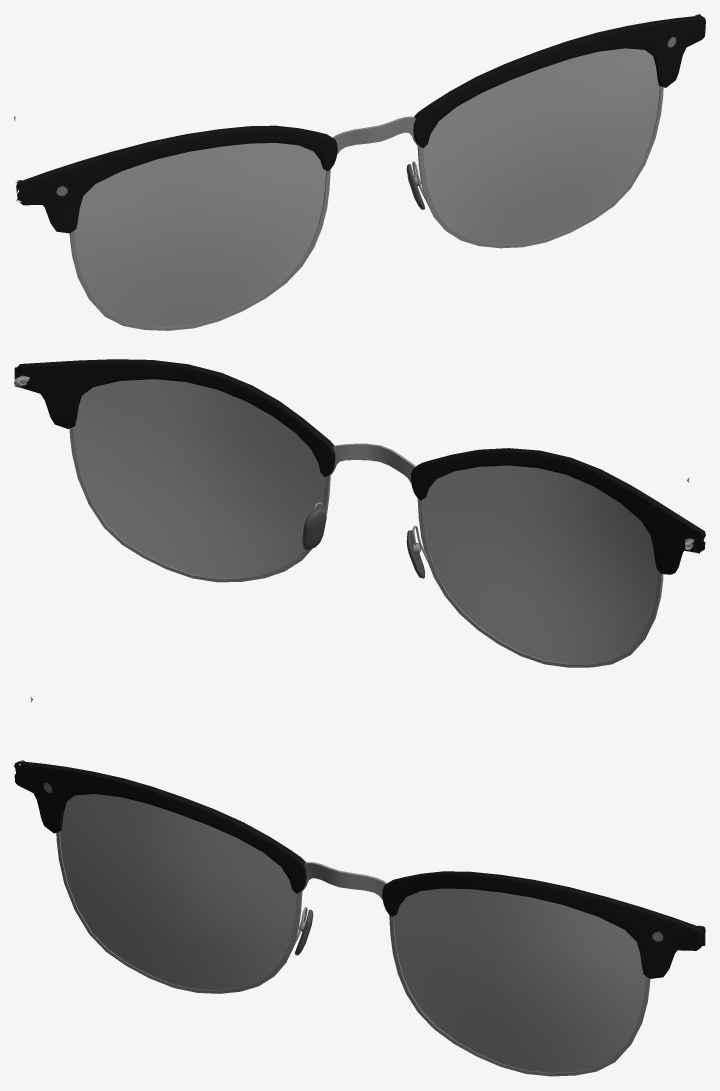
Rendered from black_sunglasses_face.glb.
3 renders of one model, top to bottom at view 1: azimuth 30°, elevation 25°; view 2: azimuth 150°, elevation 25°; view 3: azimuth 330°, elevation 25°, orthographic.
Parts seen in each view (by area): view 1: Glasses_silver; view 2: Glasses_silver; view 3: Glasses_silver.
Boxes of the visible parts, x1,y1,x2,y2 form: Glasses_silver: [15, 14, 705, 330]; Glasses_silver: [14, 359, 705, 667]; Glasses_silver: [14, 760, 705, 1076].
Size of the model in its own units: 0.1404 by 0.0467 by 0.0108.
1 material, 1 textured.
